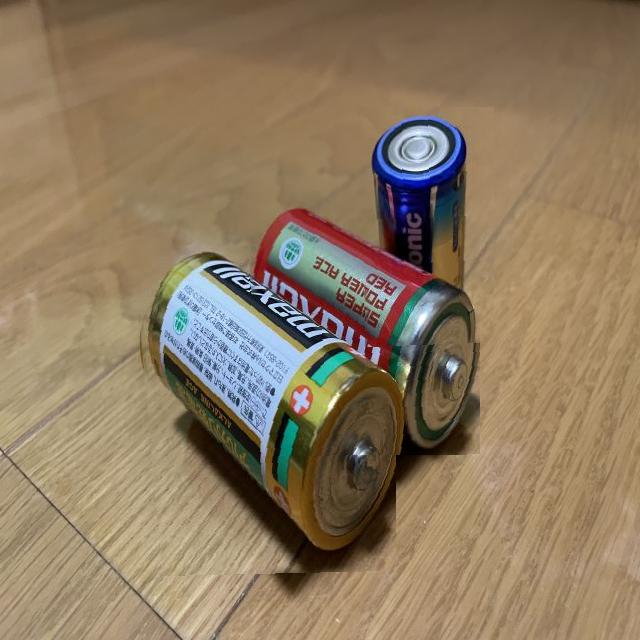battery: (133, 246, 396, 576), (244, 198, 480, 456), (360, 108, 494, 348)
